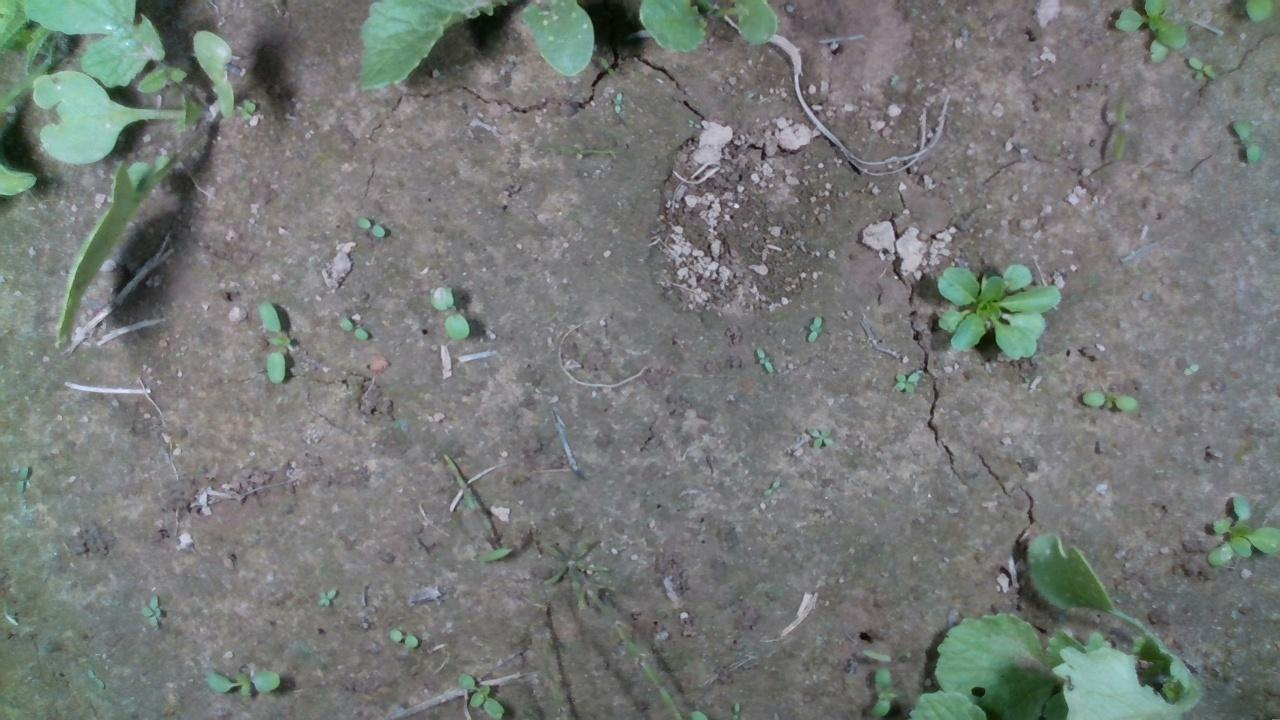weed: (202, 664, 282, 696), (425, 282, 469, 340), (257, 300, 287, 385), (1229, 116, 1262, 164), (1078, 387, 1140, 412), (335, 313, 369, 340), (136, 592, 161, 628), (1186, 53, 1218, 81), (805, 424, 834, 451), (891, 369, 920, 393), (354, 216, 385, 238), (387, 626, 418, 648), (752, 345, 774, 374), (760, 473, 783, 496), (804, 312, 821, 341), (315, 587, 337, 608), (1181, 361, 1200, 376)
